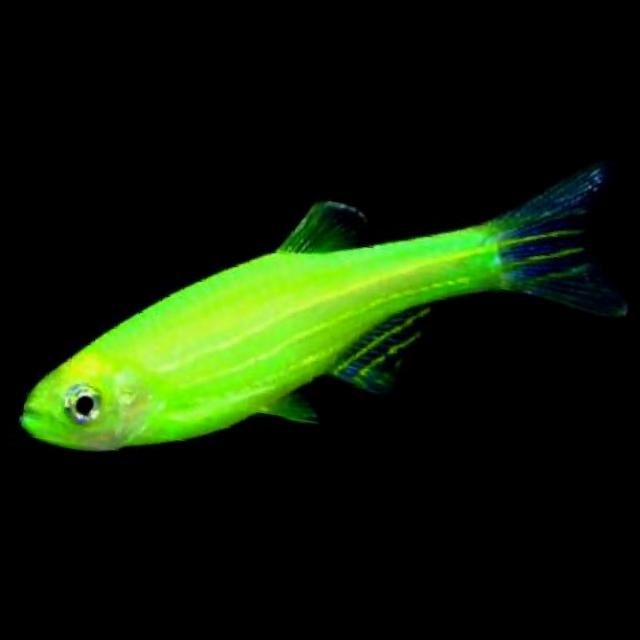ZebraFish: (11, 81, 640, 529)
